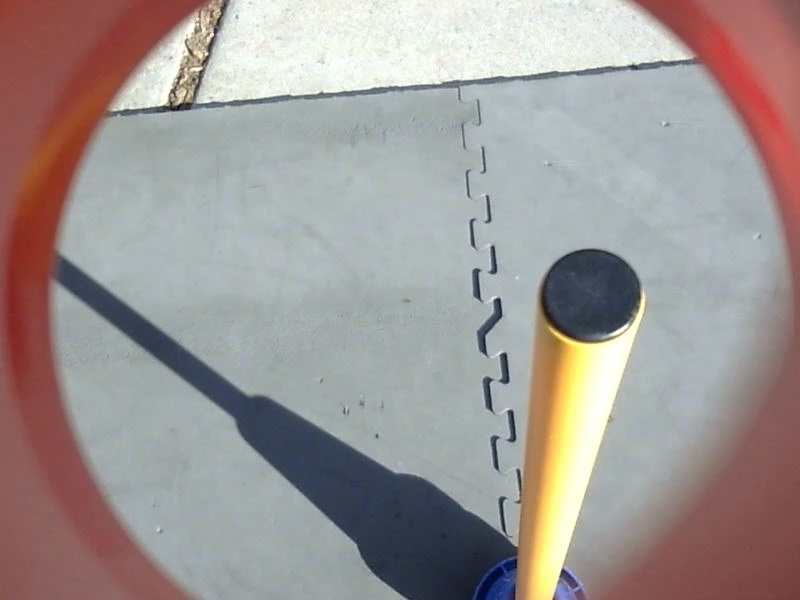tip: (532, 240, 655, 350)
